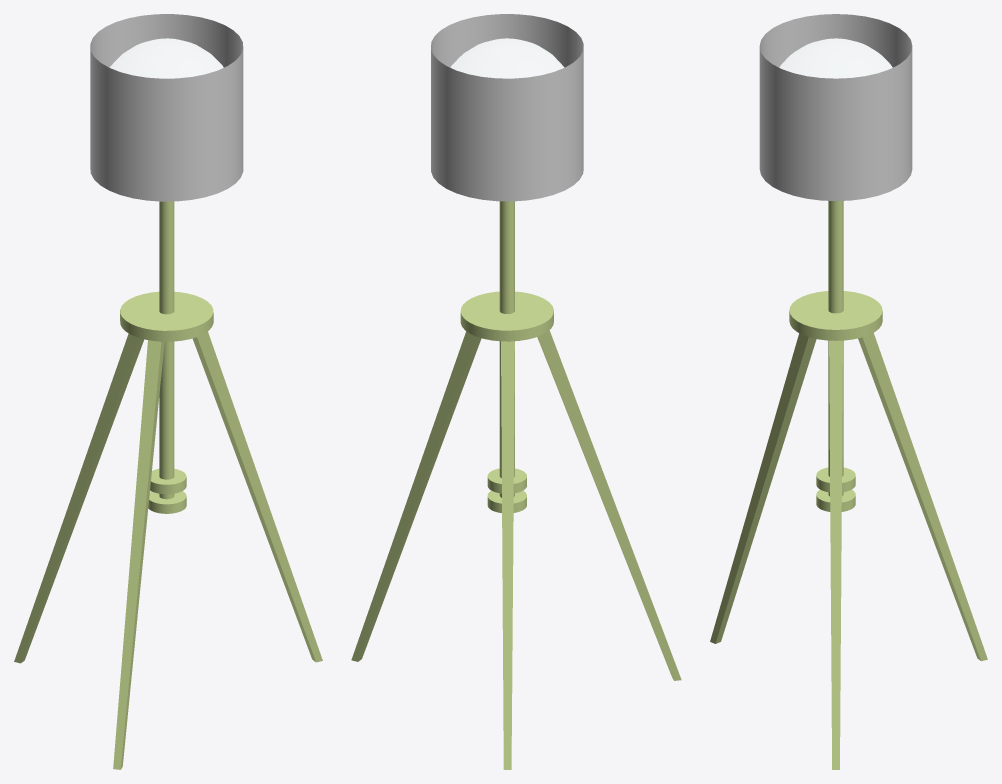
The model's file is lamp_active.glb.
3 views of the same model, side by side, from view 1: azimuth 30°, elevation 25°; view 2: azimuth 150°, elevation 25°; view 3: azimuth 270°, elevation 25° (orthographic).
Parts seen in each view (by area): view 1: Cylinder.004, Cube.003, Cube.002, Cube, Cylinder.001, Cylinder, Sphere, Cylinder.002, Cylinder.003; view 2: Cylinder.004, Cube.002, Cube, Cube.003, Cylinder, Sphere, Cylinder.001, Cylinder.002; view 3: Cylinder.004, Cube, Cube.003, Cube.002, Cylinder, Sphere, Cylinder.001, Cylinder.002, Cylinder.003.
Boxes of the visible parts, x1=… form: Cylinder.004: x1=90, y1=14, x2=243, y2=201; Cube.003: x1=113, y1=340, x2=164, y2=769; Cube.002: x1=14, y1=333, x2=144, y2=663; Cube: x1=192, y1=331, x2=322, y2=662; Cylinder.001: x1=159, y1=201, x2=174, y2=499; Cylinder: x1=120, y1=291, x2=213, y2=341; Sphere: x1=109, y1=38, x2=223, y2=78; Cylinder.002: x1=150, y1=468, x2=186, y2=494; Cylinder.003: x1=148, y1=491, x2=186, y2=513; Cylinder.004: x1=431, y1=14, x2=583, y2=201; Cube.002: x1=501, y1=341, x2=514, y2=769; Cube: x1=351, y1=331, x2=481, y2=661; Cube.003: x1=537, y1=330, x2=681, y2=680; Cylinder: x1=460, y1=291, x2=553, y2=341; Sphere: x1=450, y1=38, x2=564, y2=78; Cylinder.001: x1=499, y1=201, x2=514, y2=497; Cylinder.002: x1=487, y1=468, x2=526, y2=493; Cylinder.004: x1=759, y1=14, x2=912, y2=201; Cube: x1=829, y1=340, x2=842, y2=769; Cube.003: x1=710, y1=333, x2=816, y2=643; Cube.002: x1=858, y1=333, x2=987, y2=661; Cylinder: x1=789, y1=291, x2=882, y2=340; Sphere: x1=779, y1=38, x2=892, y2=78; Cylinder.001: x1=828, y1=201, x2=843, y2=496; Cylinder.002: x1=816, y1=467, x2=855, y2=492; Cylinder.003: x1=816, y1=489, x2=855, y2=511.
Size of the model in its own units: 5.23 by 12.14 by 4.71.
